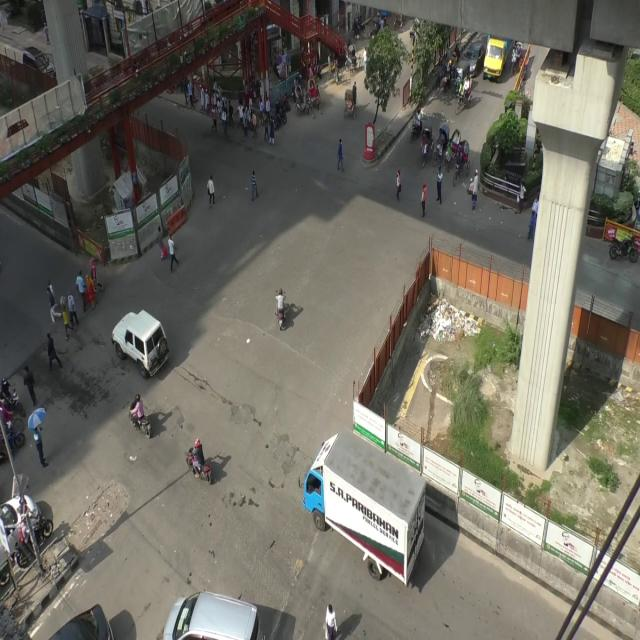cng: (454, 62, 472, 95)
rikshaw: (292, 83, 314, 117), (454, 142, 471, 186), (434, 123, 451, 166), (444, 132, 462, 170), (307, 77, 324, 112), (510, 40, 526, 77), (459, 76, 474, 114), (420, 126, 434, 166), (344, 84, 359, 119), (326, 53, 342, 83), (347, 44, 362, 73)
